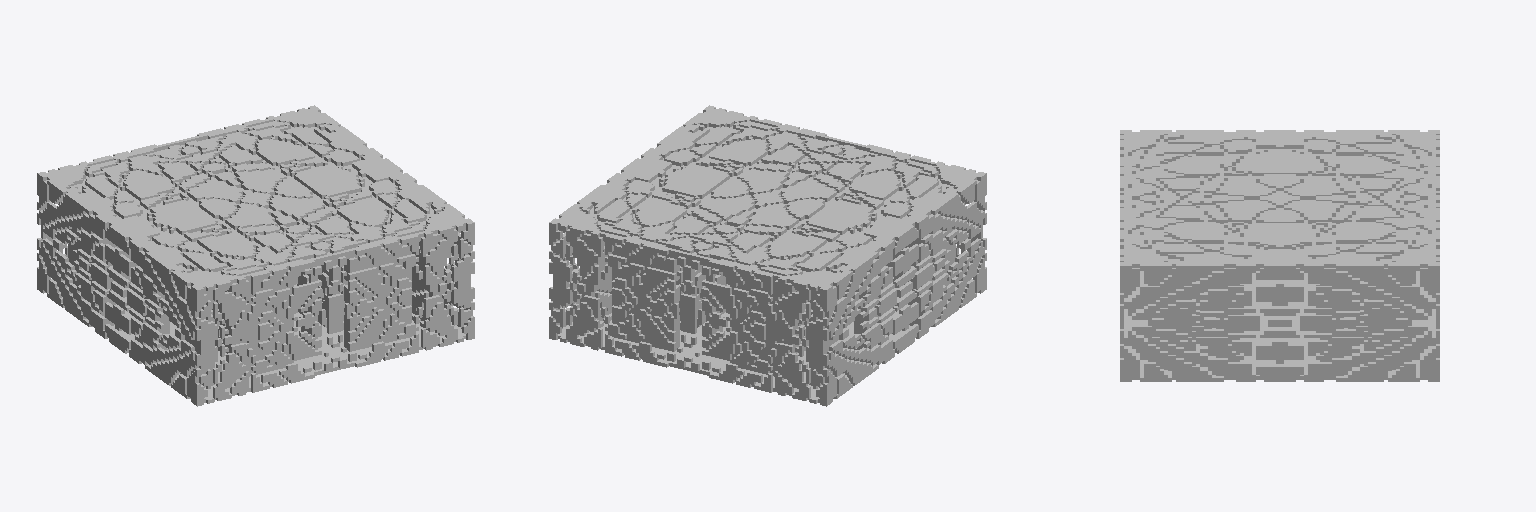
File: level2.obj
3 renders of one model, left to right at view 1: azimuth 30°, elevation 25°; view 2: azimuth 150°, elevation 25°; view 3: azimuth 270°, elevation 25°, orthographic.
Size of the model in its own units: 80 by 32 by 80.